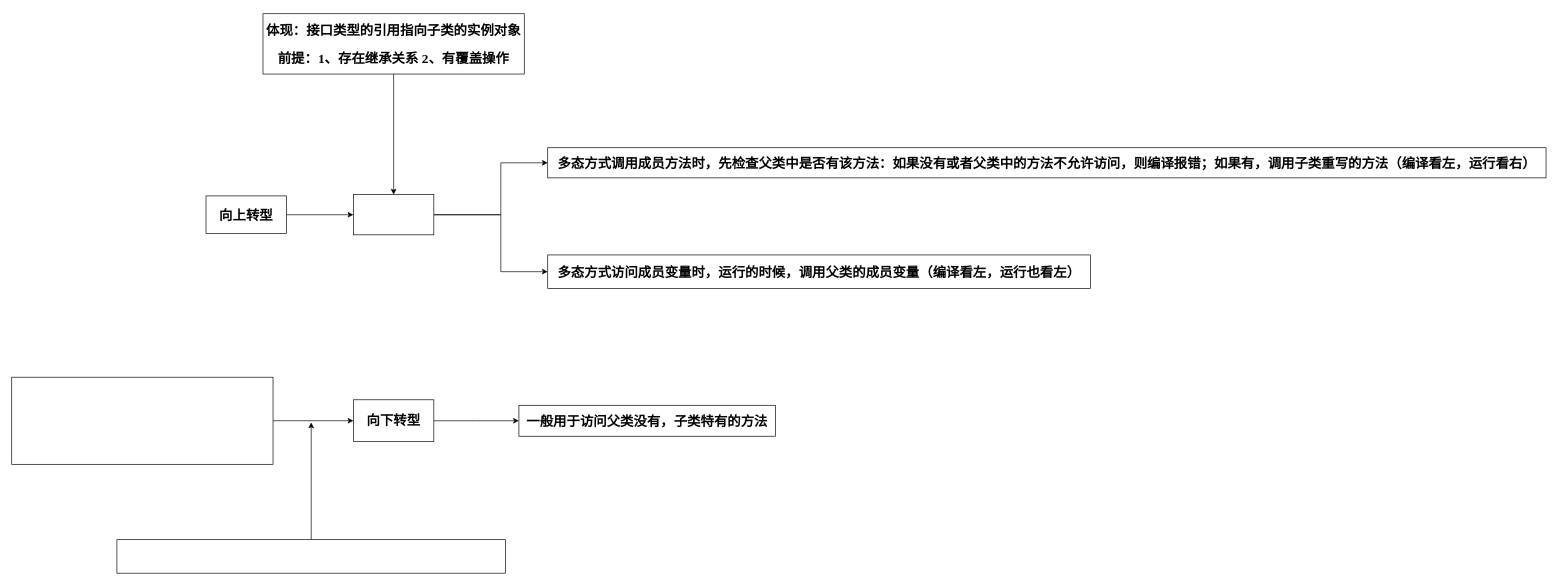
The diagram is 1558 pixels wide and 586 high, and some of its shapes have lost their labels. Each missing label, with the box of its shape:
1、只有向上转型过的对象才能向下转型 2、父类实例对象不能直接转换成子类类型 3、没有继承关系，不能进行类型转换: (11, 377, 273, 464)
为了保证程序的健壮性，向下转型要先用 instanceof 判断后转型: (116, 539, 506, 573)
多态调用: (353, 194, 434, 235)
